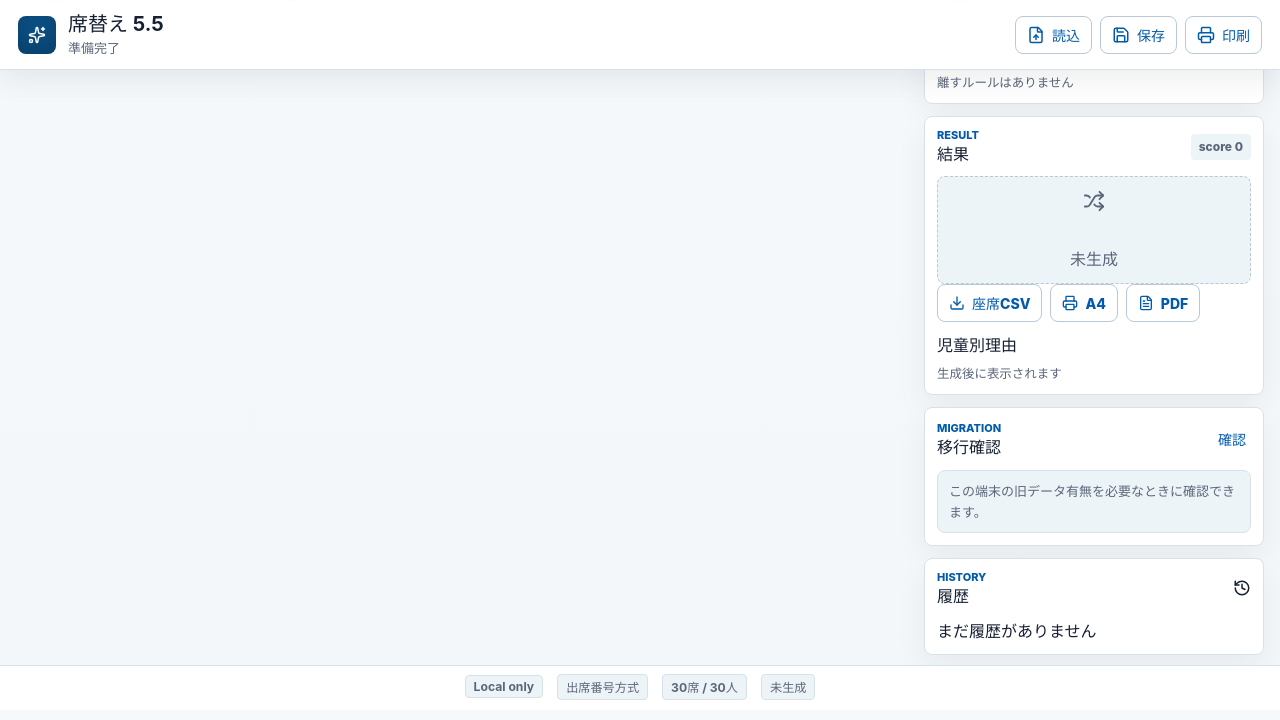
App › records local migration check results on demand
(page scrolled)
Click the button "確認" at (1232, 439), box [1213,420,1251,458]
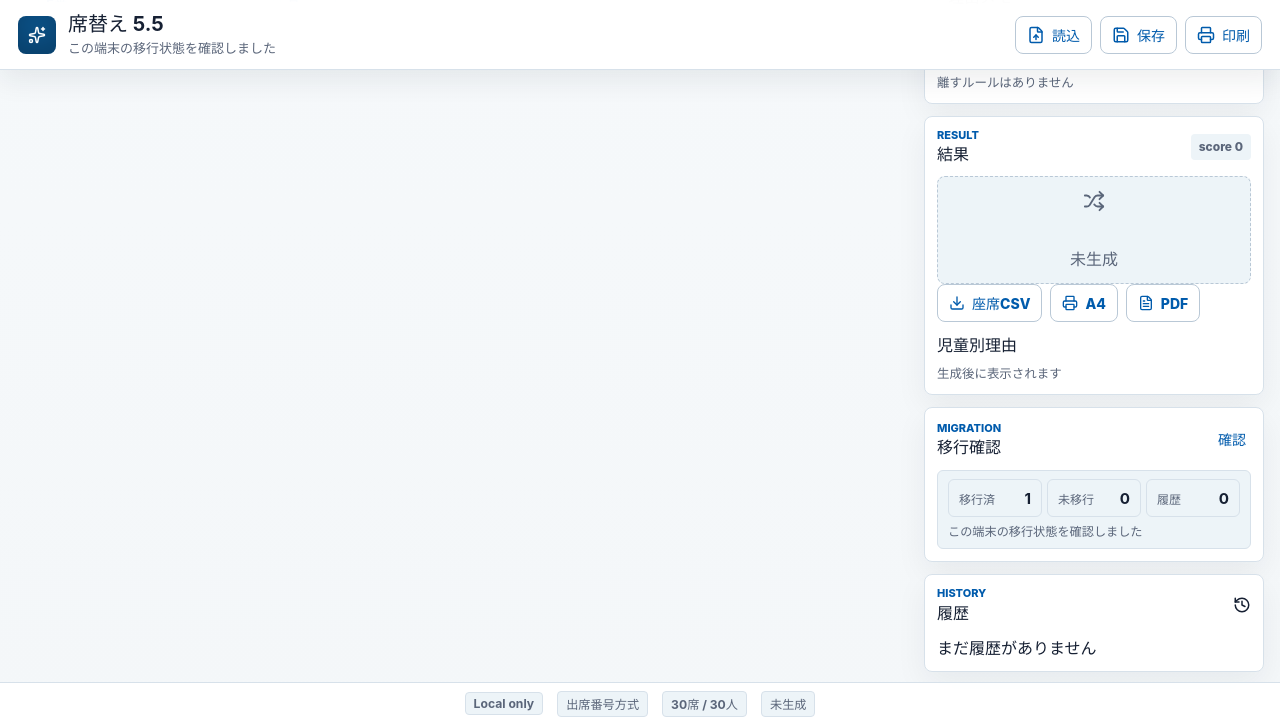
Expected: the text "この端末の移行状態を確認しました" below "席替え 5.5" is shown, [68,40,276,56]
